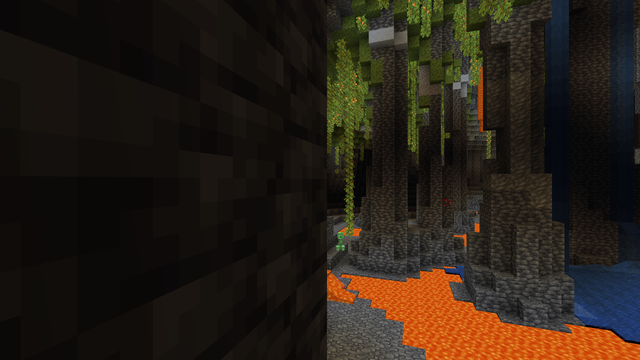creepers: (336, 231, 343, 250)
